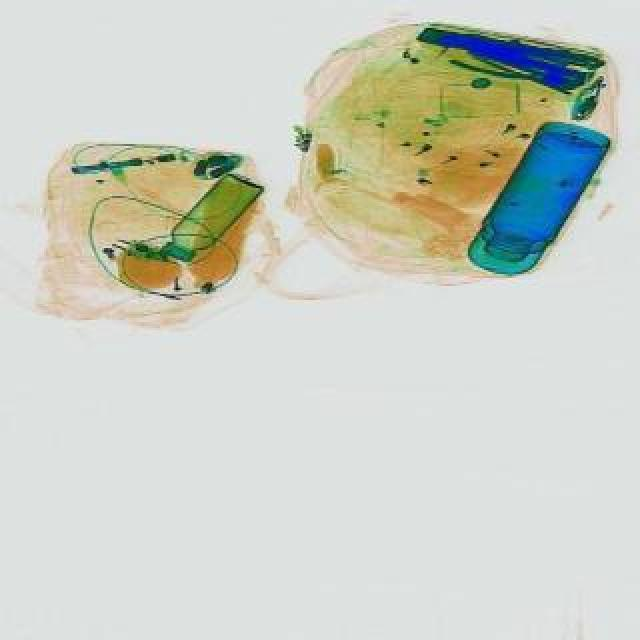wrench: (436, 22, 588, 88), (446, 48, 576, 100)
